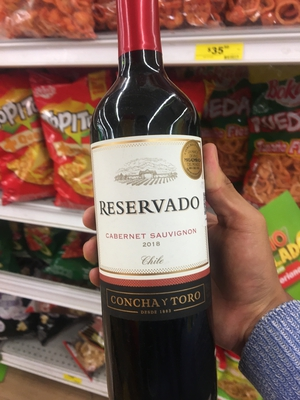reservado cabernet sauvignon: (87, 16, 228, 400)
